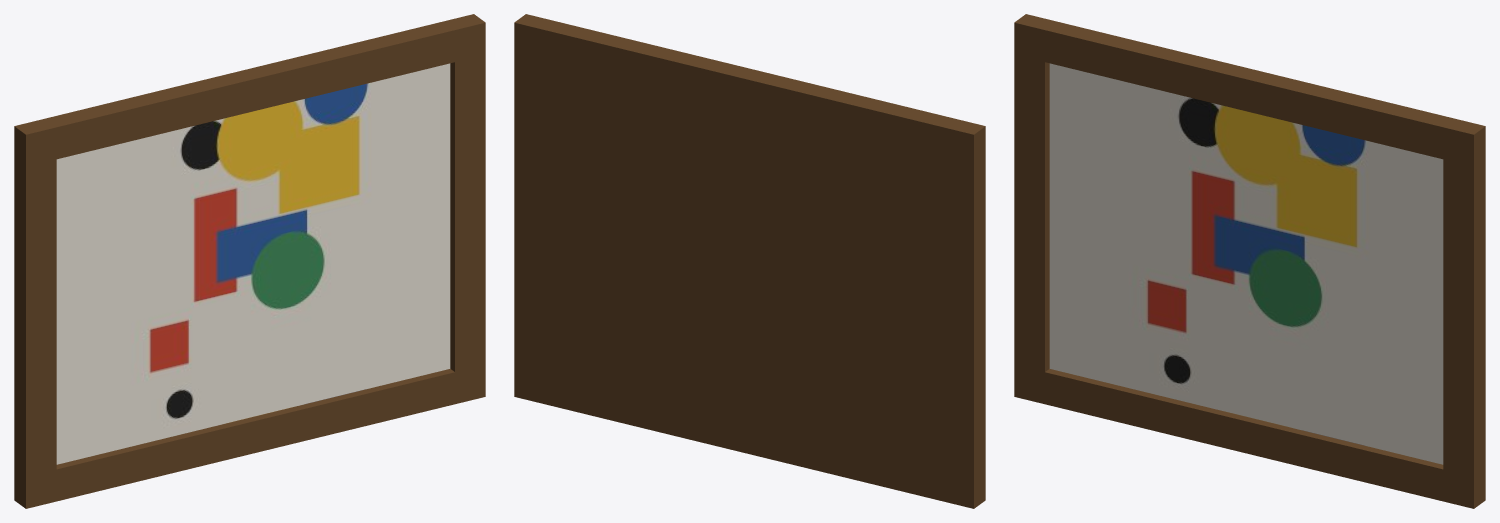
The model's file is painting_abstract.glb.
3 renders of one model, left to right at view 1: azimuth 30°, elevation 25°; view 2: azimuth 150°, elevation 25°; view 3: azimuth 330°, elevation 25°, orthographic.
Parts seen in each view (by area): view 1: painting; view 2: painting; view 3: painting.
Boxes of the visible parts, left/top/right/bottom form: painting: left=14, top=14, right=485, bottom=508; painting: left=514, top=14, right=985, bottom=508; painting: left=1014, top=14, right=1485, bottom=508.
Bounding box in the file's own units: 0.9 × 0.7 × 0.04.
2 materials, 1 textured.
